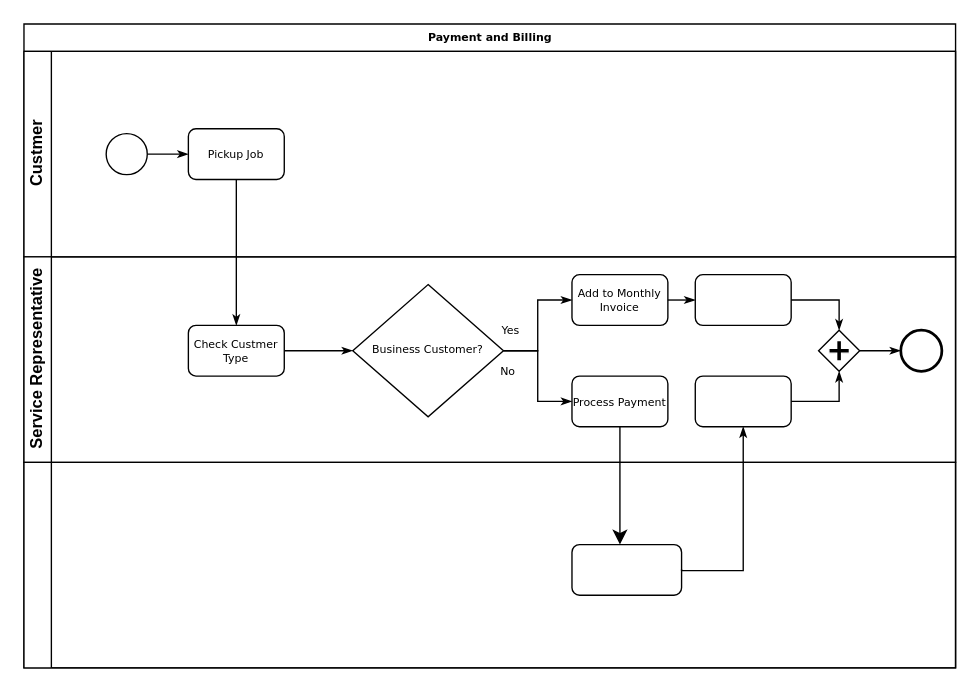
Some shapes in this 980 by 692 pixel diagram are drawn without their labels. The shapes that lost their labels are listed below. From the top down, each one's box as (x1, y1, x2, y2) in pixels, then its label:
(694, 273, 791, 325): Send Invoice
(694, 375, 791, 427): Complete Pickup
(23, 461, 956, 668): Payment System
(571, 543, 682, 595): Confirm Payment
